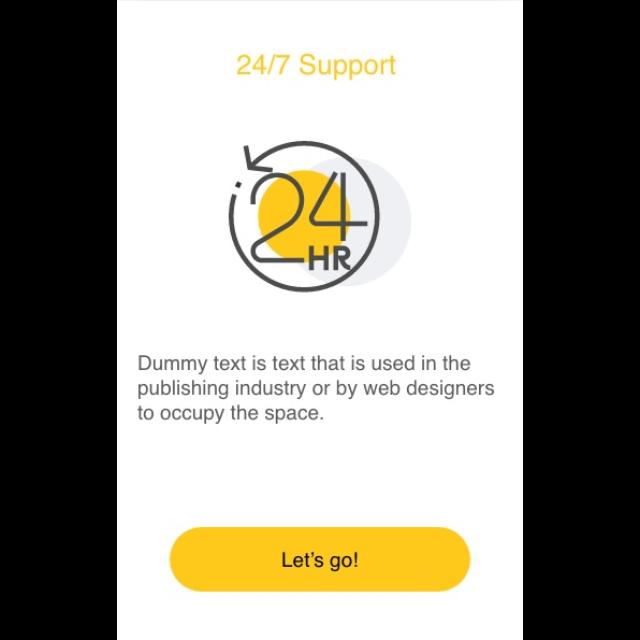image: (228, 140, 414, 294)
text: (137, 352, 496, 426), (236, 52, 398, 82)
textbutton: (170, 526, 472, 592)
